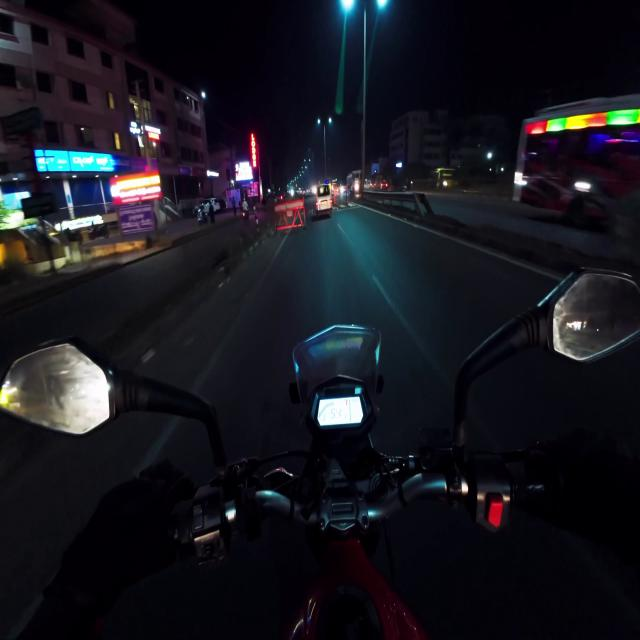car: (316, 184, 332, 216)
motorcycle: (0, 270, 639, 639)
